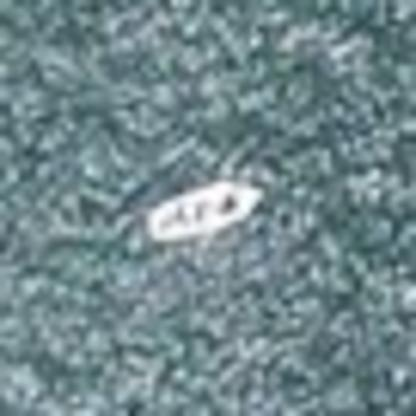ship: (140, 171, 268, 244)
